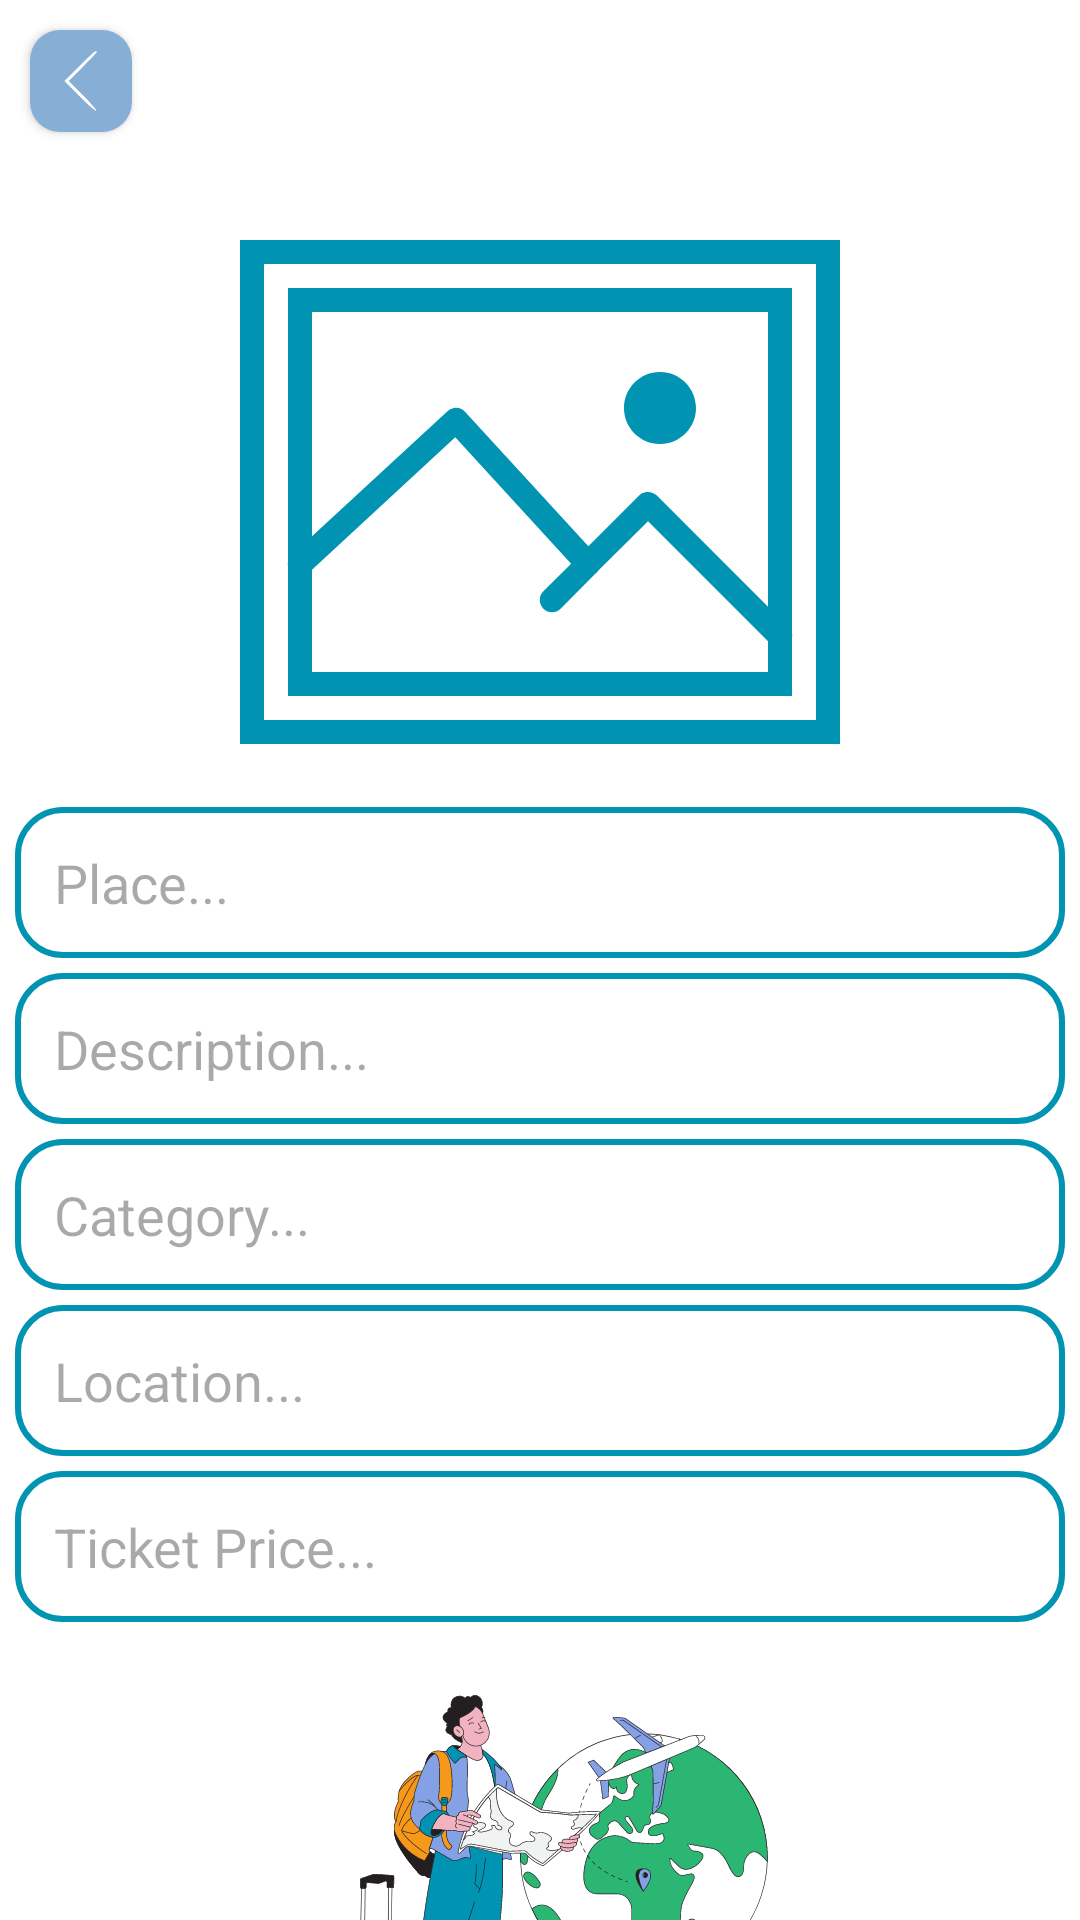

Icon click points for this 1080px x 1920px phone screenshot, format (x=x, y=y):
back: (x=81, y=81)
